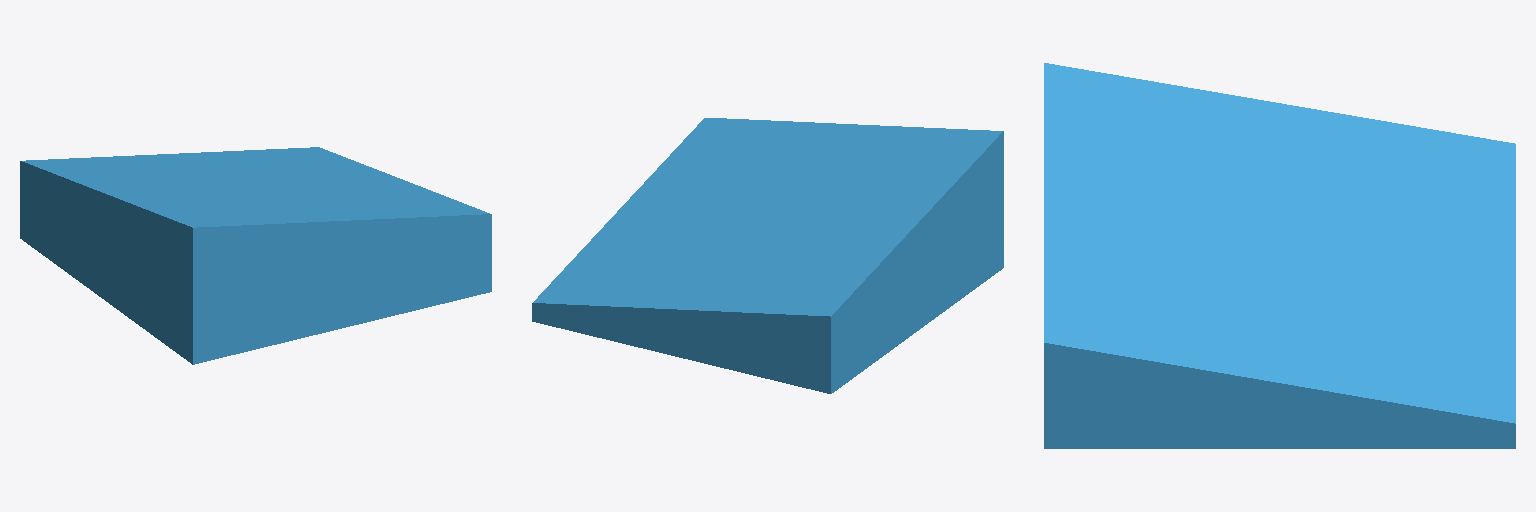
robot.urdf — diag_Y_positive_15_lifted:
<?xml version="1.0" ?>
<robot name="diag_Y_positive_15_lifted">
<!-- Used for fixing robot to Gazebo 'base_link' -->

<link name="world"/>

  <joint name="fixed" type="fixed">
    <parent link="world"/>
    <child link="diag_Y_positive_15_lifted__link"/>
  </joint>

  <link name="diag_Y_positive_15_lifted__link">
    <inertial>
      <mass value="10"/>
      <inertia ixx="1.0" ixy="0.0" ixz="0.0" iyy="1.0" iyz="0.0" izz="1.0"/>
    </inertial>
    <collision>
      <geometry>
         <mesh filename="package://pal_gazebo_worlds/models/diag_Y_positive_15_lifted/meshes/diag_Y_positive_15_degree_slope_lifted.stl" scale="0.00999 0.00999 0.00999"/>
      </geometry>
      <surface>
        <friction>
          <ode>
            <mu1 value="1.0" />
            <mu2 value="1.0" />
            <kp  value="1e5" />
            <kd  value="1e2" />
            <maxVel  value="100.0" />
            <minDepth  value="0.0" />
            <dampingFactor>0.01</dampingFactor>
          </ode>
        </friction>
      </surface>
    </collision>
    <visual>
      <geometry>
        <mesh filename="package://pal_gazebo_worlds/models/diag_Y_positive_15_lifted/meshes/diag_Y_positive_15_degree_slope_lifted.stl" scale="0.00999 0.00999 0.00999"/>
      </geometry>
      <material name="white">
      </material>
    </visual>
  </link>



</robot>

--- Render facts (derived) ---
3 views of the same robot in one strip: view 1: azimuth 30°, elevation 25°; view 2: azimuth 150°, elevation 25°; view 3: azimuth 270°, elevation 25° (orthographic).
Robot: diag_Y_positive_15_lifted — 2 links, 1 joints (1 fixed); root link world; default pose: all joints at 0.
Links seen in each view (by area): view 1: diag_Y_positive_15_lifted__link; view 2: diag_Y_positive_15_lifted__link; view 3: diag_Y_positive_15_lifted__link.
Link boxes in pixels (<box>): diag_Y_positive_15_lifted__link: <box>20,147,491,364</box>; diag_Y_positive_15_lifted__link: <box>532,118,1003,393</box>; diag_Y_positive_15_lifted__link: <box>1044,63,1515,448</box>.
Bounding box of the posed robot: 0.3996 × 0.3996 × 0.1754 m (x, y, z).
Meshes: 1 distinct files referenced, 1 mesh visuals loaded (1 binary STL).